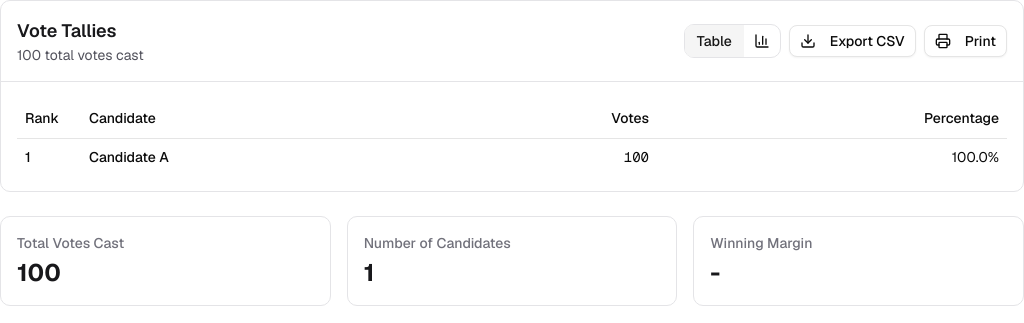
Test: ResultsDisplay › chart view rendering › should switch to chart view when chart button clicked
The width and height of the screenshot is (1024, 323).
Click the button named "Show results as chart".
click(762, 41)  # box 744,25 -> 780,57
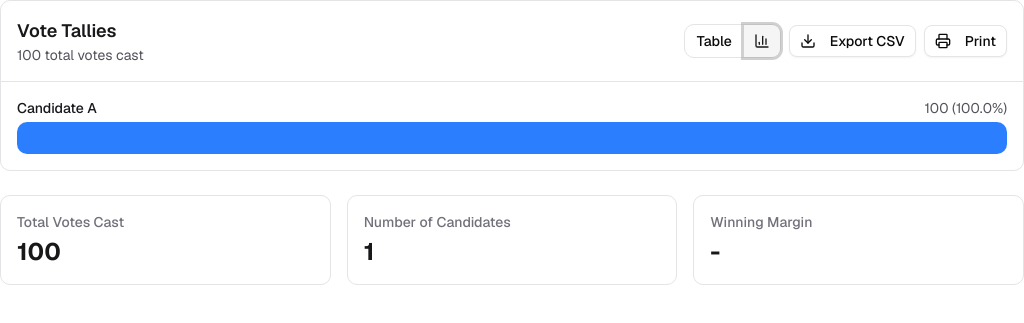
Expected: the table is gone
